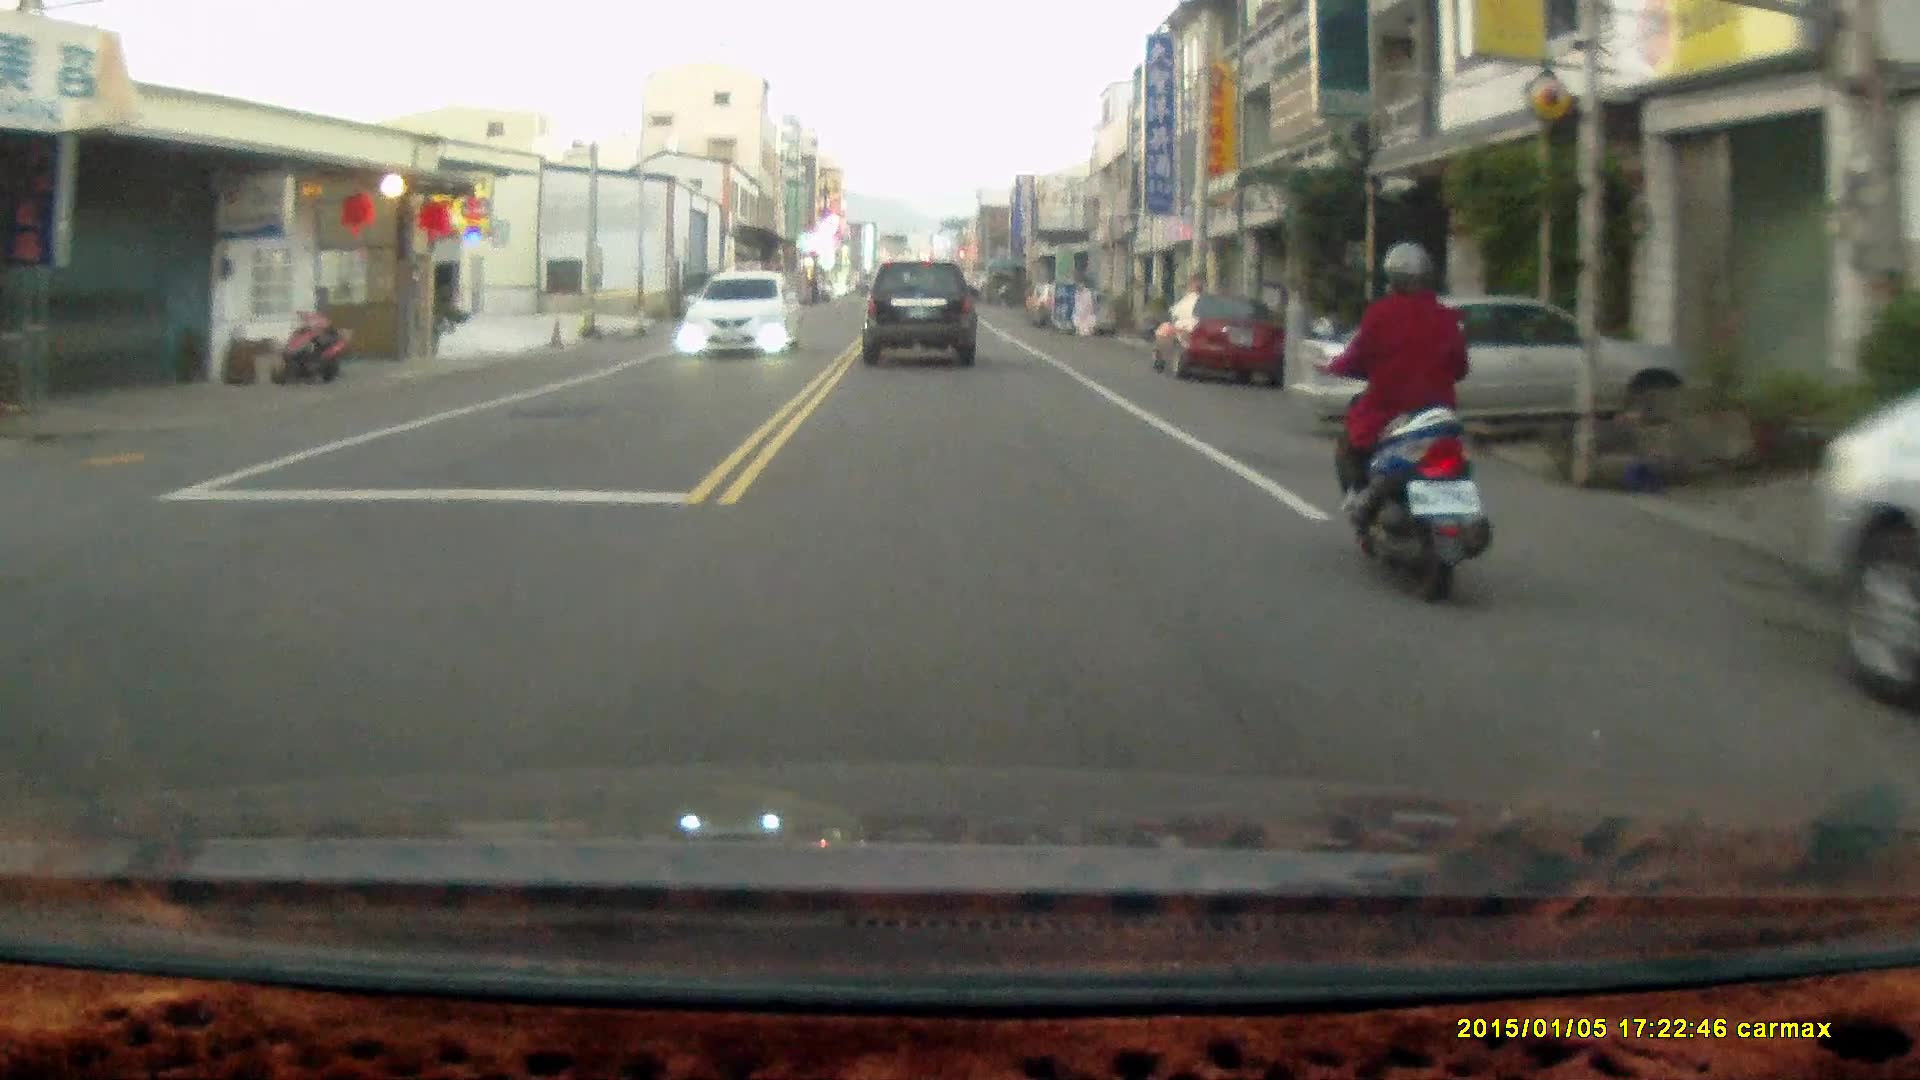rider: (1305, 241, 1491, 607)
vehicle: (1298, 289, 1704, 450), (861, 261, 982, 370), (1149, 300, 1284, 392), (681, 273, 804, 360)
